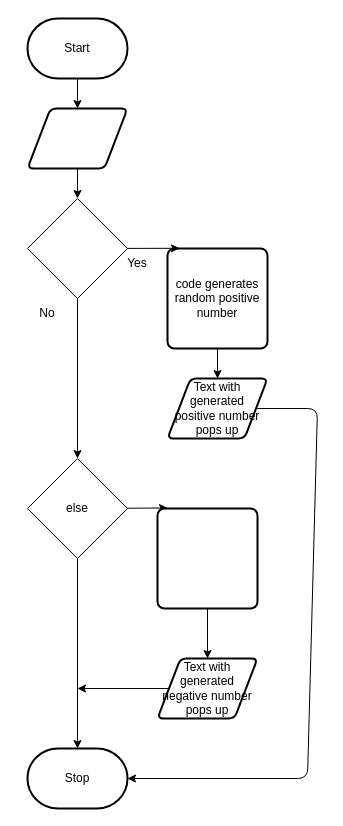
This 343x826 diagram has some shape labels left out. Each missing label, with the centre of its shape:
code generates random negative number: the point at 207,558
if + was chosen when button was pressed: the point at 77,248
User chooses + or - then presses button: the point at 77,138
